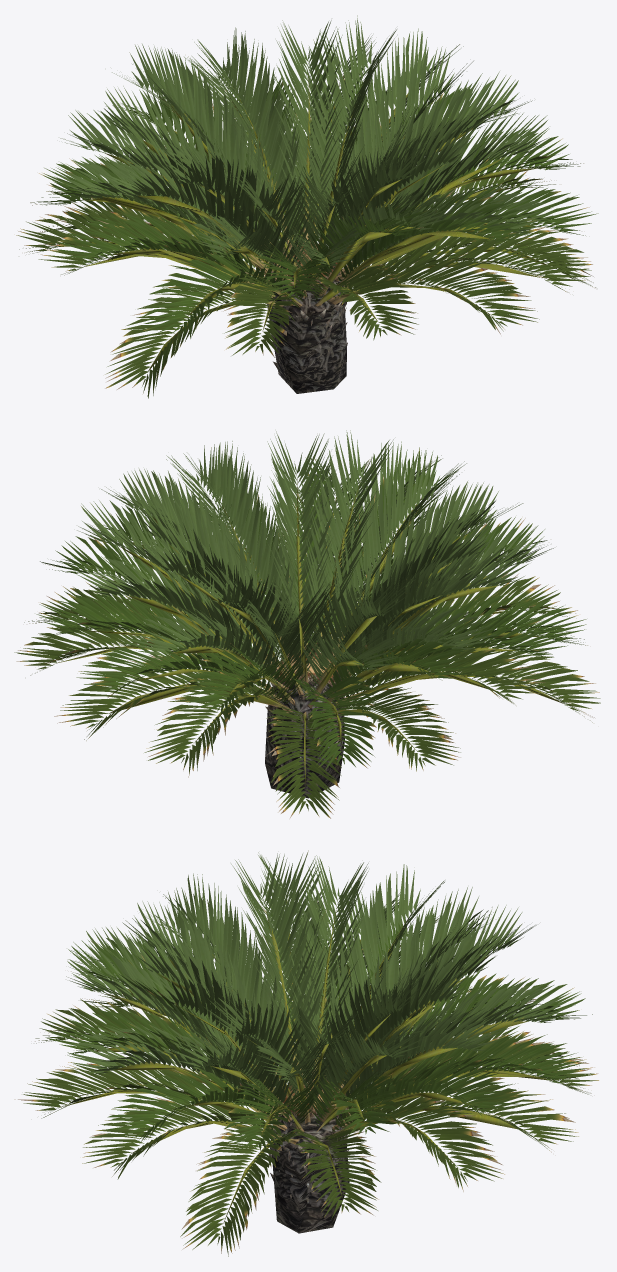
The model's file is lowpoly.fbx.
3 renders of one model, top to bottom at view 1: azimuth 30°, elevation 25°; view 2: azimuth 150°, elevation 25°; view 3: azimuth 270°, elevation 25°, orthographic.
Parts seen in each view (by area): view 1: Cycas_revoluta_HD; view 2: Cycas_revoluta_HD; view 3: Cycas_revoluta_HD.
Part boxes in pixels (<box>): Cycas_revoluta_HD: <box>16,15,598,398</box>; Cycas_revoluta_HD: <box>14,430,600,818</box>; Cycas_revoluta_HD: <box>14,850,598,1256</box>.
Size of the model in its own units: 76.08 by 41.84 by 75.09.
